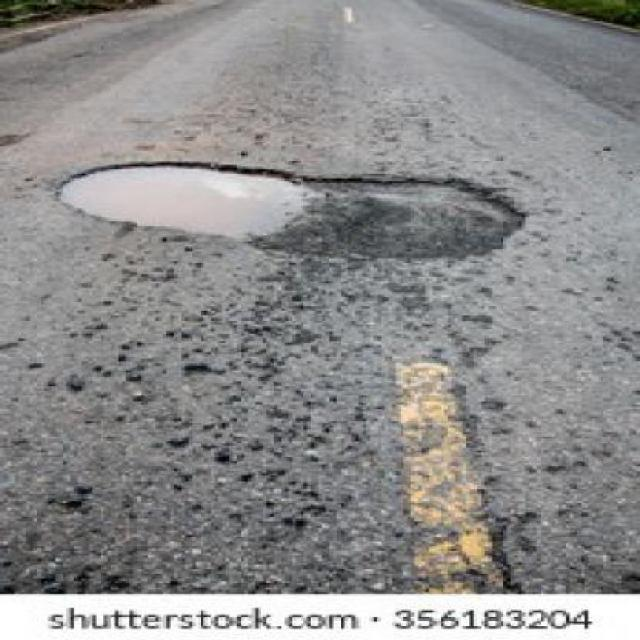Pothole: (45, 157, 537, 260)
